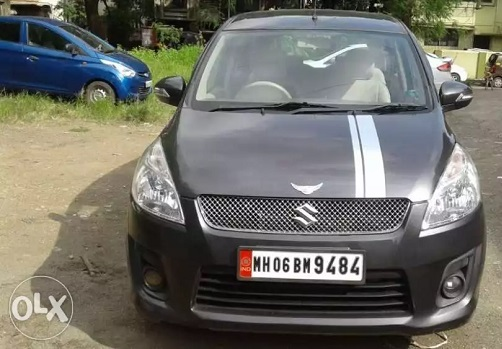licenseplate: (236, 241, 364, 285)
